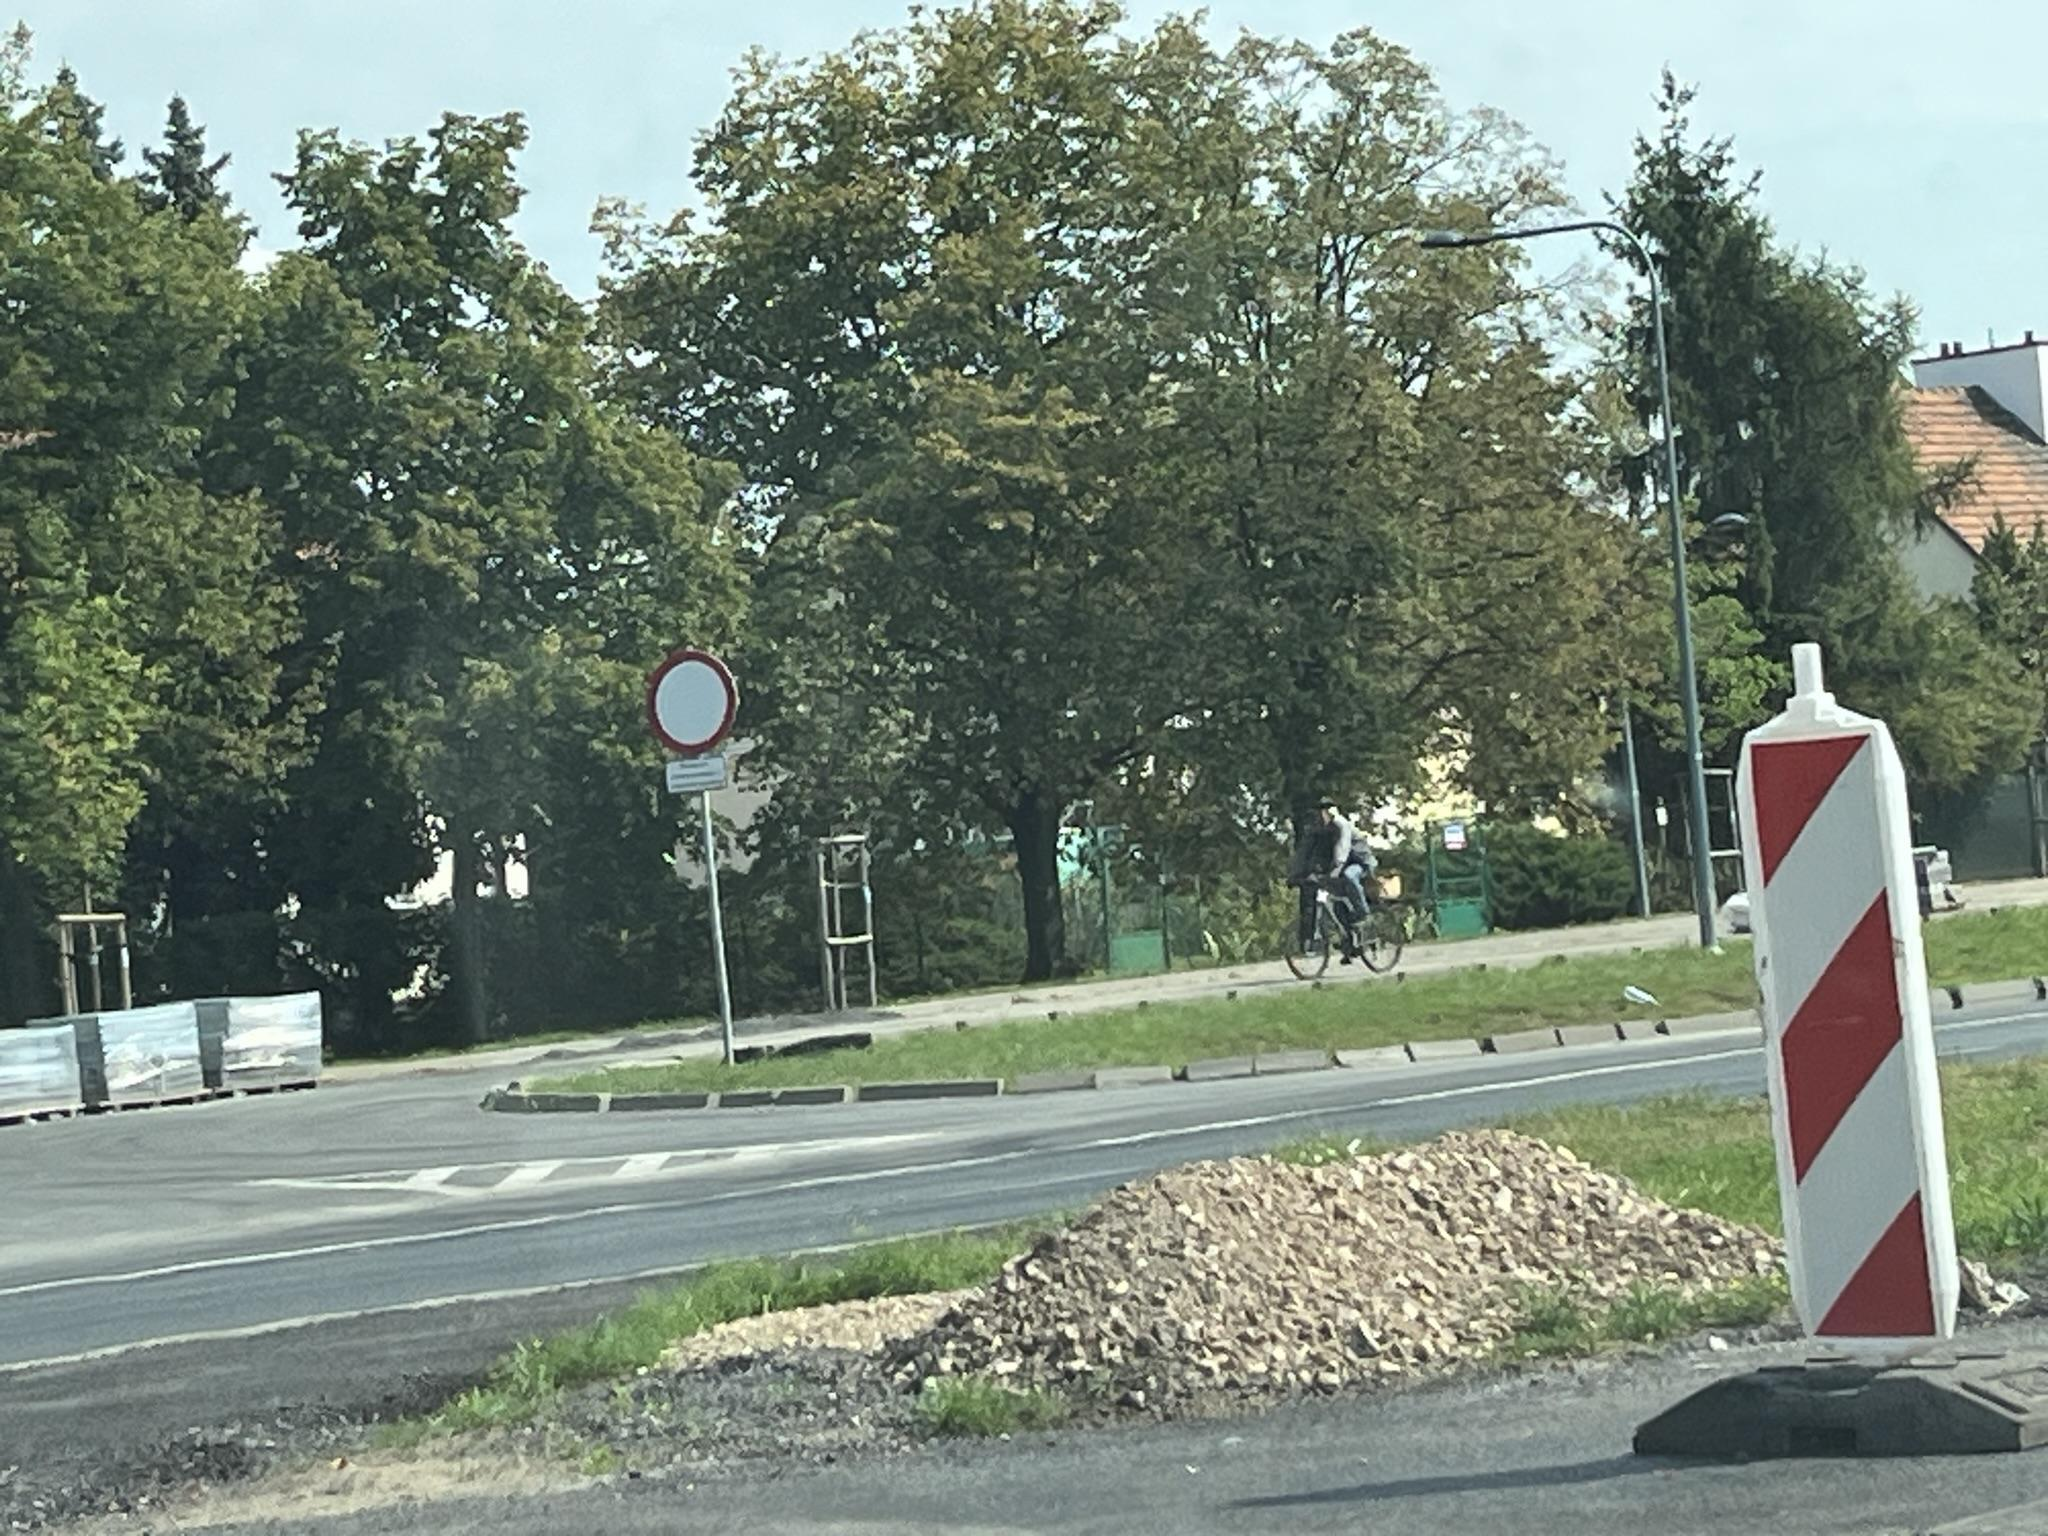prohibitory: (647, 649, 740, 757)
